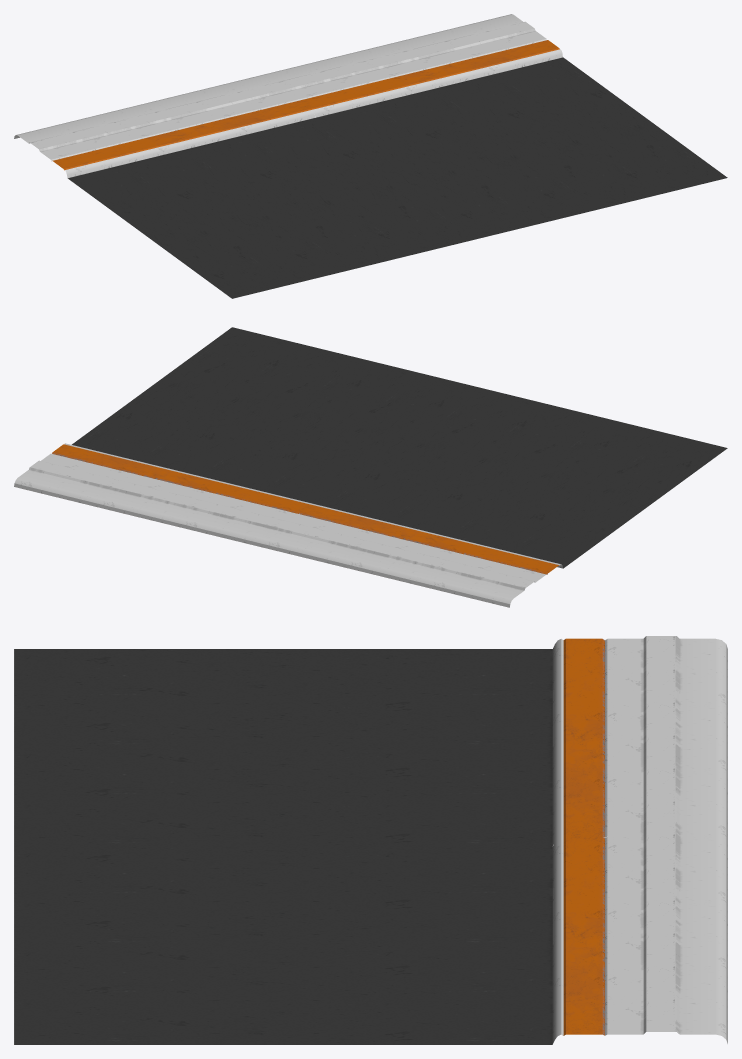
Rendered from Floor_FullSideLarge.fbx.
3 views of the same model, one above another, from view 1: azimuth 30°, elevation 25°; view 2: azimuth 150°, elevation 25°; view 3: azimuth 270°, elevation 25° (orthographic). The views are drawn at different scales.
Parts seen in each view (by area): view 1: Floor_FullSideLarge; view 2: Floor_FullSideLarge; view 3: Floor_FullSideLarge.
Part boxes in pixels (<box>): Floor_FullSideLarge: <box>14,14,727,298</box>; Floor_FullSideLarge: <box>14,327,727,607</box>; Floor_FullSideLarge: <box>14,636,727,1044</box>.
Size of the model in its own units: 8.49 by 0.1315 by 6.47.
